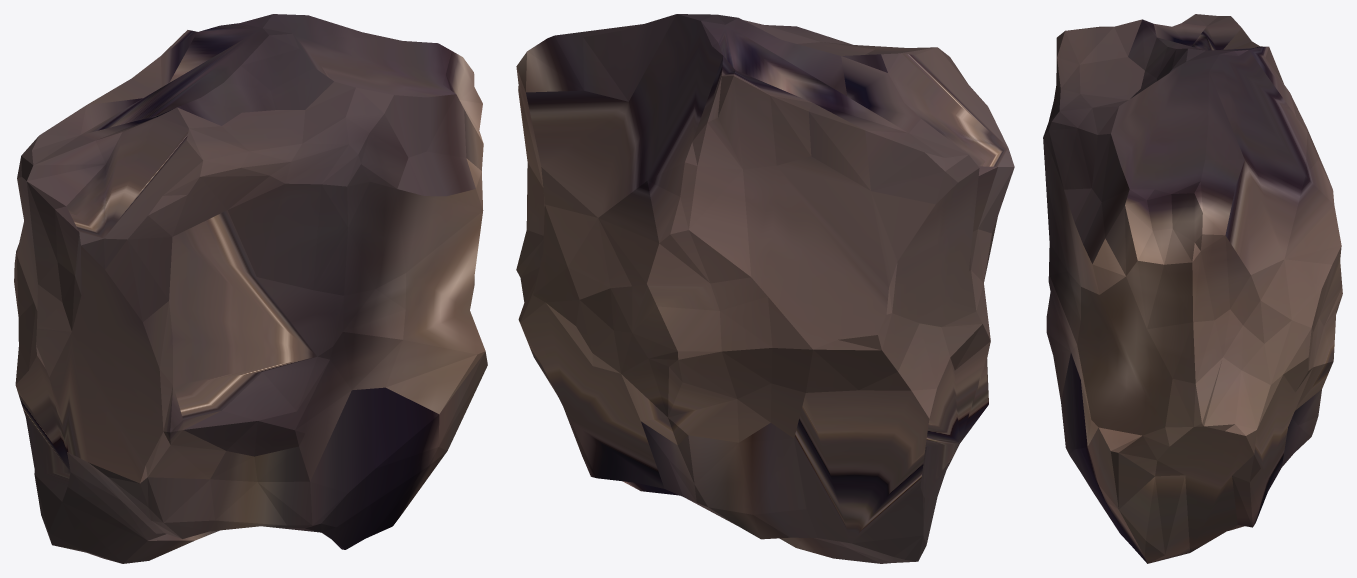
Rendered from rocksifbx.fbx.
3 renders of one model, left to right at view 1: azimuth 30°, elevation 25°; view 2: azimuth 150°, elevation 25°; view 3: azimuth 270°, elevation 25°, orthographic. The views are drawn at different scales.
Visible parts, largest first — view 1: Cube.001; view 2: Cube.001; view 3: Cube.001.
Part boxes in pixels (x1,y1,x2,y2): Cube.001: (14, 14, 487, 563); Cube.001: (516, 14, 1014, 563); Cube.001: (1043, 14, 1342, 563).
Bounding box in the file's own units: 330 × 350 × 200.
